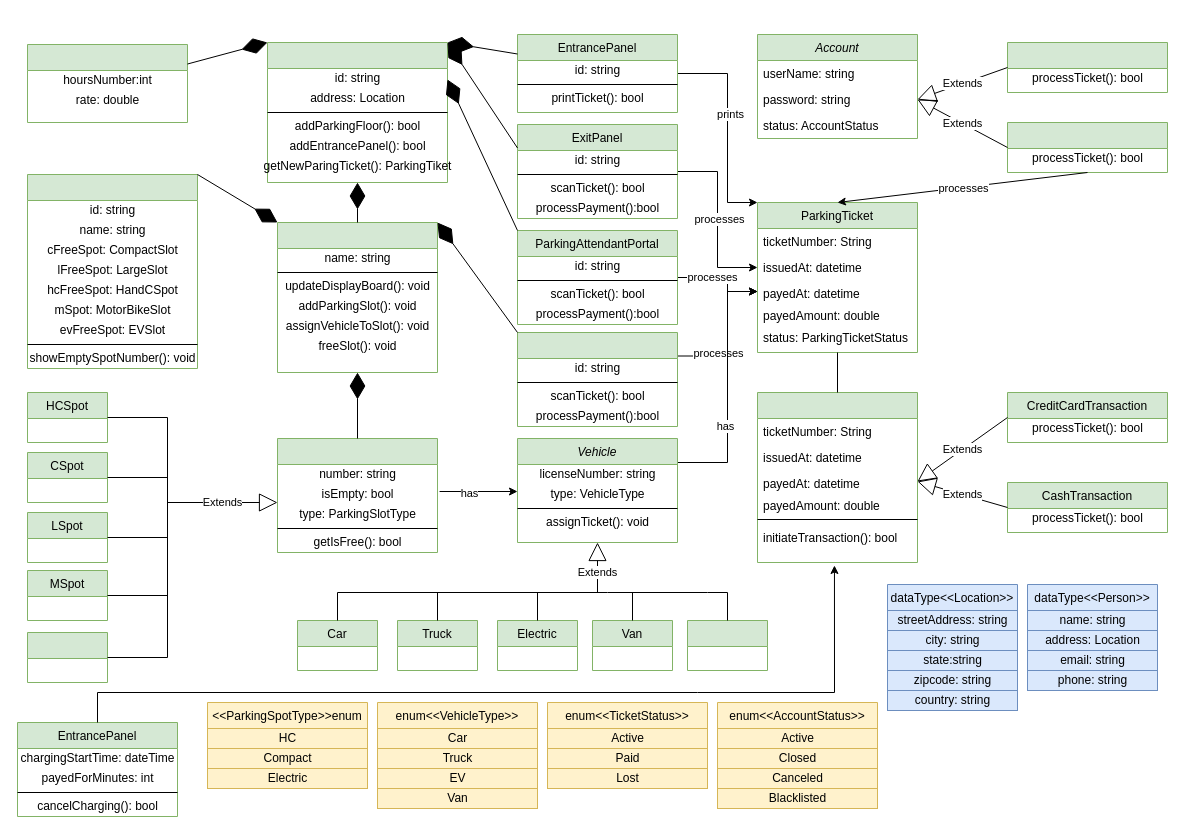
Image size: 1185x834. Some labels were removed from this diagram. The shapes that lost their labels are listed below. From the top down, each one's box as (x1, y1, x2, y2) in pixels, then its label:
(26, 44, 188, 122): ParkingRate
(1006, 42, 1168, 92): Admin
(266, 42, 448, 182): ParkingLot
(1006, 122, 1168, 172): ParkingAttendant
(26, 174, 198, 368): ParkingDisplayBoard
(276, 222, 438, 372): ParkingFloor
(516, 332, 678, 426): CustomerInfoPortal
(276, 438, 438, 552): ParkingSpot
(756, 392, 918, 562): Payment
(26, 632, 108, 682): EVSpot
(686, 620, 768, 670): Motorbike
